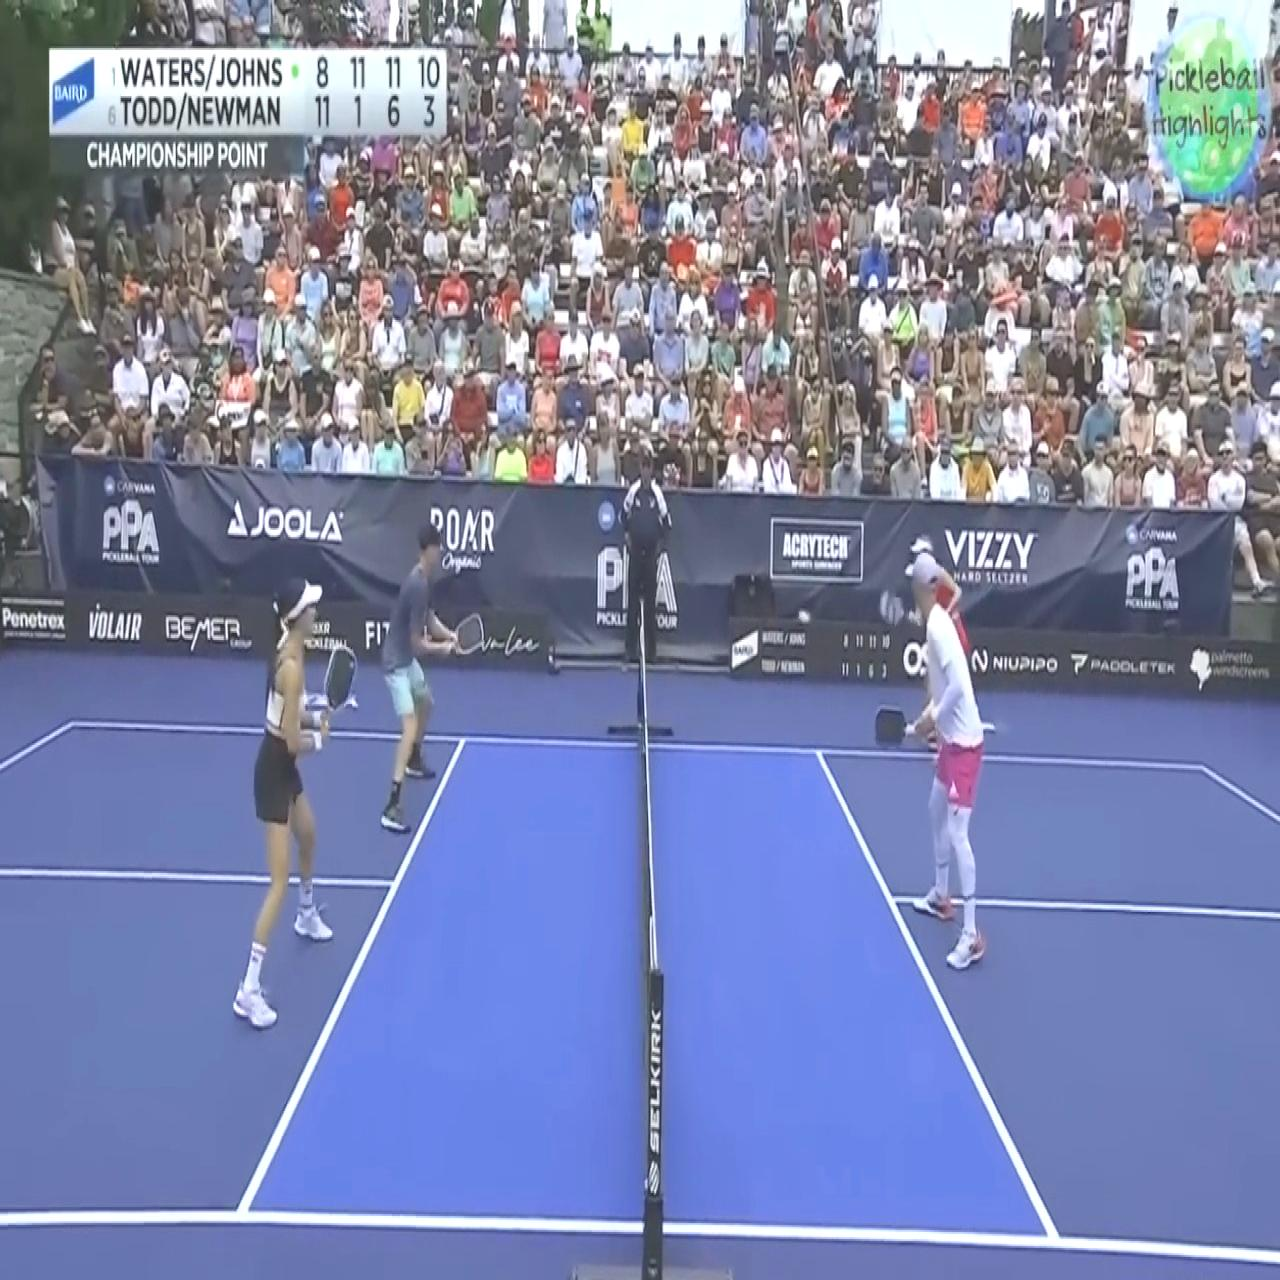Pickleball: (792, 602, 817, 622)
